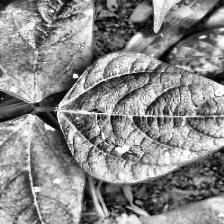Bean Rust: (56, 52, 224, 184), (0, 0, 92, 102), (0, 114, 82, 224)
